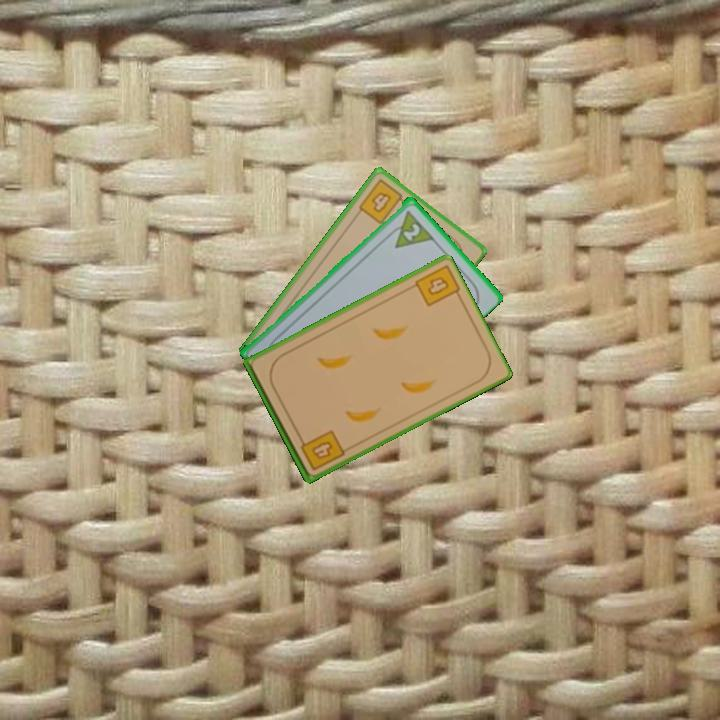2p: (399, 219, 423, 244)
4b: (355, 175, 410, 227), (295, 426, 347, 473), (424, 272, 452, 298)
